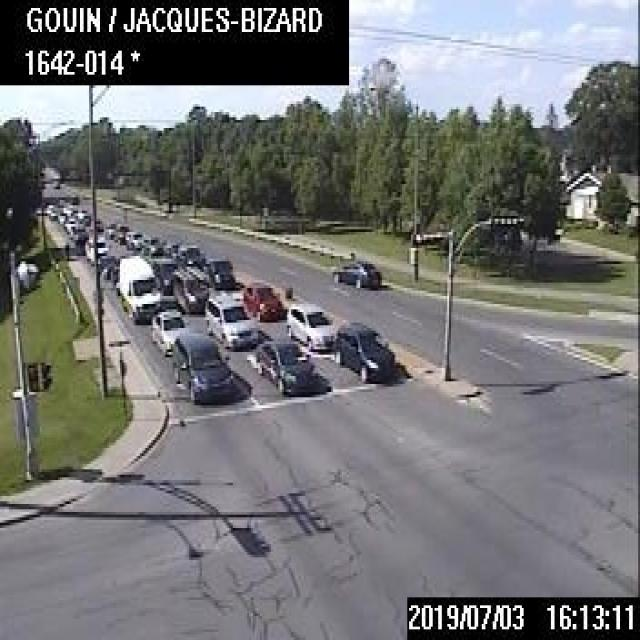vehicle: (172, 330, 232, 398), (334, 320, 393, 380), (255, 338, 313, 393), (117, 253, 159, 322), (203, 292, 256, 345), (286, 302, 334, 348), (171, 264, 208, 312), (150, 308, 187, 354), (242, 279, 281, 319), (332, 258, 379, 285), (202, 256, 234, 287), (150, 256, 176, 293), (84, 236, 105, 264), (176, 243, 203, 264), (140, 234, 162, 255), (98, 254, 115, 277), (112, 221, 128, 242), (72, 222, 88, 240), (124, 230, 140, 247), (162, 240, 178, 256), (63, 216, 77, 230), (76, 210, 89, 223), (104, 221, 114, 237), (94, 217, 102, 230), (56, 211, 64, 222), (48, 210, 56, 218)
